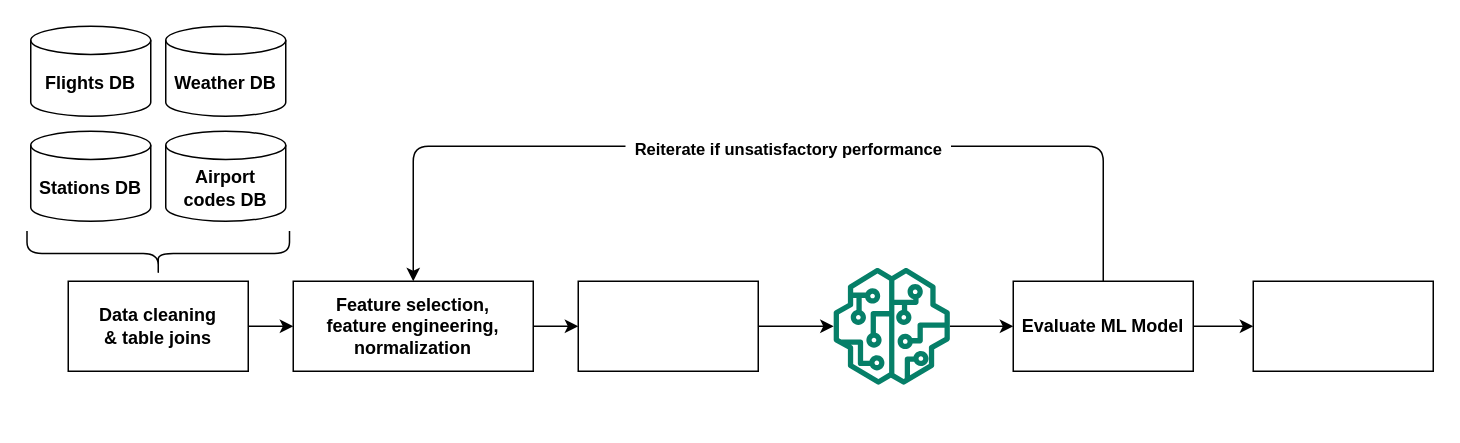
Some shapes in this 1460 by 443 pixel diagram are drawn without their labels. Here are the shapes that lost their labels. From the top down, the centre of each, then its label:
At [667,325]: "Test/train split".
At [891,325]: "Train ML Model".
At [1342,325]: "Model deployment".
